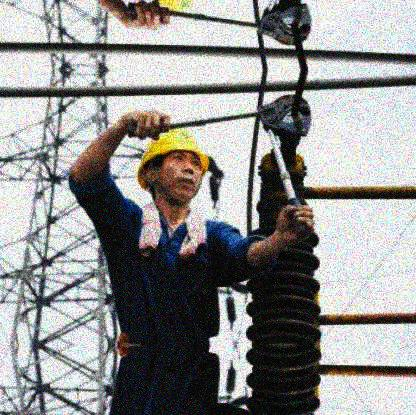helmet: (138, 130, 210, 205)
